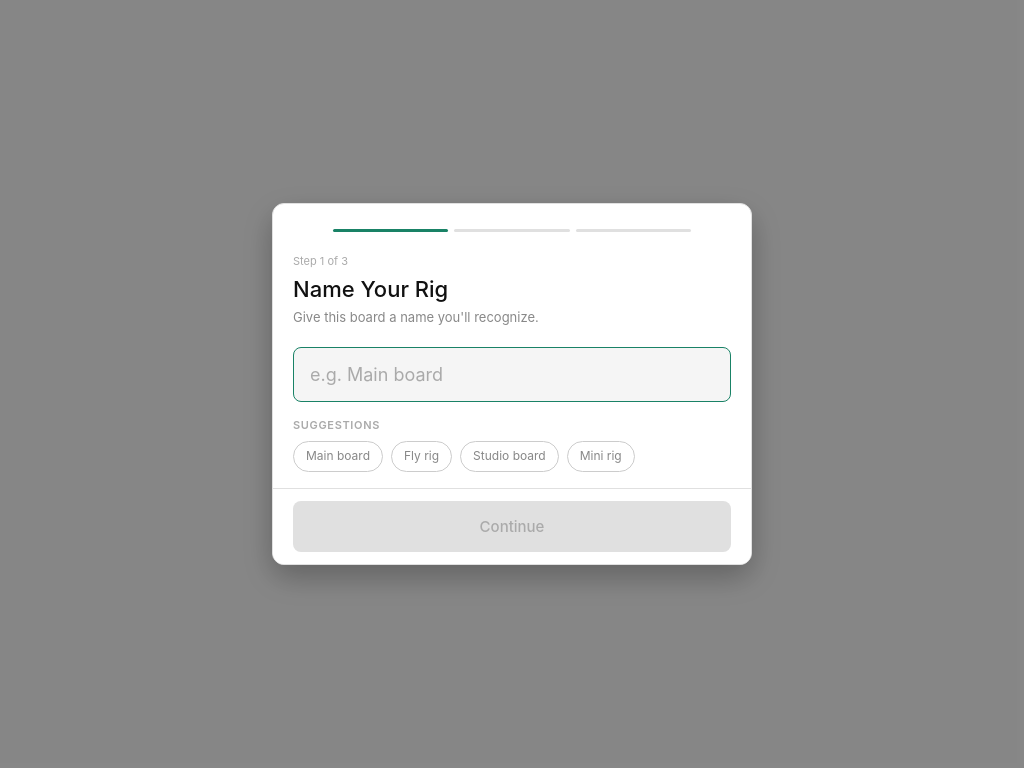
Test: NewRigWizard › blocks Continue until a name is entered
The image size is (1024, 768).
Expected: the button "Continue" is disabled, 293,501 -> 731,552
Type "My rig" into the field with placeholder "e.g. Main board". click: {"x": 512, "y": 374}
box: 293,346 -> 731,402
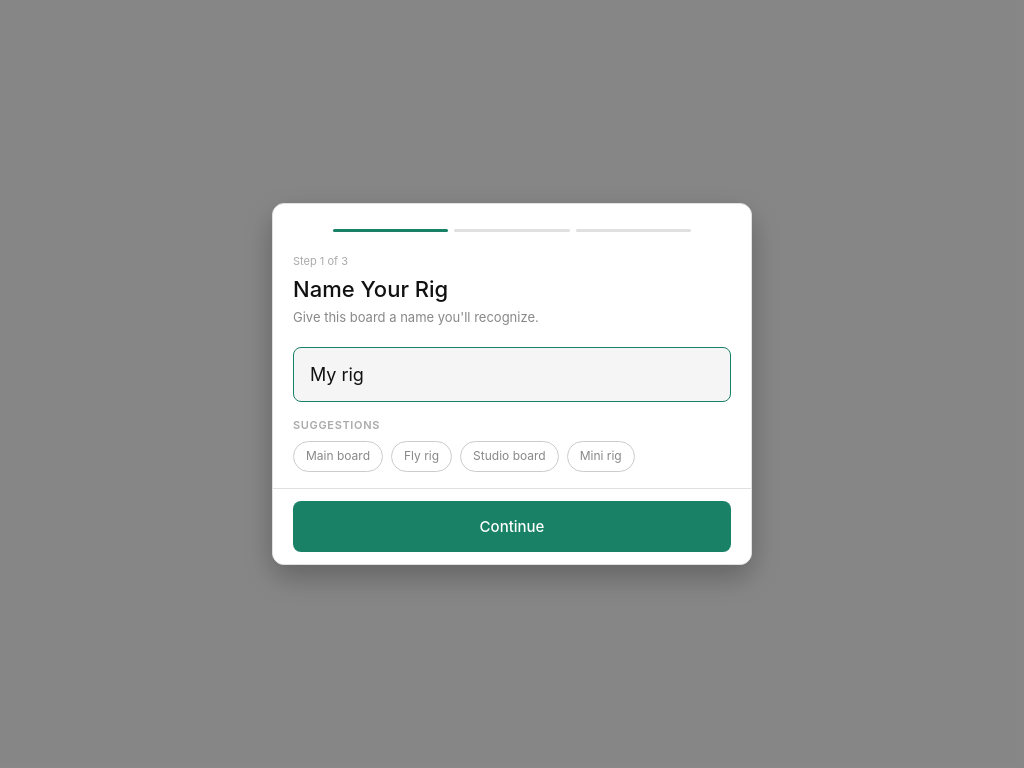
Expected: the button "Continue" is enabled, 293,501 -> 731,552
